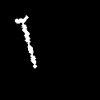half_double_crochet: (15, 16, 36, 67)
